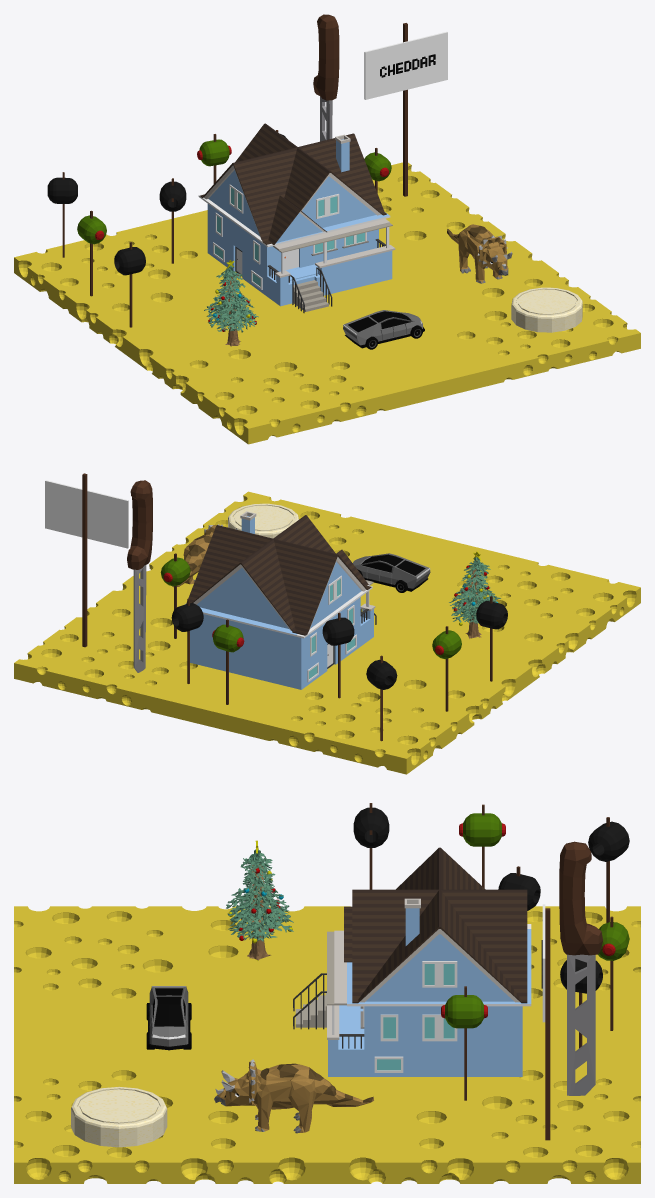
3 views of the same model, one above another, from view 1: azimuth 30°, elevation 25°; view 2: azimuth 150°, elevation 25°; view 3: azimuth 270°, elevation 25° (orthographic). The views are drawn at different scales.
Parts seen in each view (by area): view 1: Cube.022, Cube.1594, Cube.023, Cylinder.016, Cube.024, ANIMAL_Triceratops, OBJRANDOM_CHRISTMAS_TREE, VEHICLES_CYBERTRUCK, Sphere.017, Sphere.016, Sphere.020, Sphere.018 (+2 smaller); view 2: Cube.022, Cube.1594, Cube.023, Cube.024, VEHICLES_CYBERTRUCK, OBJRANDOM_CHRISTMAS_TREE, Cylinder.016, Sphere.017, Sphere.020, Sphere.021, Sphere.016, Sphere.018 (+3 smaller); view 3: Cube.022, Cube.1594, Cube.024, ANIMAL_Triceratops, Cylinder.016, OBJRANDOM_CHRISTMAS_TREE, VEHICLES_CYBERTRUCK, Cube.023, Sphere.019, Sphere.016, Sphere.018, Sphere.017 (+3 smaller).
Boxes of the visible parts, box(x1,y1,x2,y2) form: Cube.022: box(14, 162, 640, 444); Cube.1594: box(198, 123, 395, 313); Cube.023: box(364, 23, 447, 196); Cylinder.016: box(511, 287, 582, 332); Cube.024: box(313, 14, 339, 141); ANIMAL_Triceratops: box(447, 224, 512, 283); OBJRANDOM_CHRISTMAS_TREE: box(204, 260, 258, 346); VEHICLES_CYBERTRUCK: box(343, 310, 424, 349); Sphere.017: box(114, 242, 145, 327); Sphere.016: box(47, 172, 77, 257); Sphere.020: box(159, 178, 186, 263); Sphere.018: box(77, 210, 106, 296); Cube.022: box(14, 491, 640, 774); Cube.1594: box(185, 511, 376, 689); Cube.023: box(45, 473, 128, 647); Cube.024: box(127, 480, 152, 672); VEHICLES_CYBERTRUCK: box(353, 553, 430, 592); OBJRANDOM_CHRISTMAS_TREE: box(449, 551, 500, 638); Cylinder.016: box(228, 503, 298, 538); Sphere.017: box(476, 596, 507, 681); Sphere.020: box(322, 612, 354, 698); Sphere.021: box(171, 598, 203, 683); Sphere.016: box(366, 655, 397, 741); Sphere.018: box(432, 626, 461, 711); Cube.022: box(14, 906, 640, 1183); Cube.1594: box(293, 847, 531, 1076); Cube.024: box(559, 841, 602, 1095); ANIMAL_Triceratops: box(214, 1059, 373, 1133); Cylinder.016: box(71, 1086, 167, 1147); OBJRANDOM_CHRISTMAS_TREE: box(226, 840, 293, 961); VEHICLES_CYBERTRUCK: box(146, 986, 191, 1050); Cube.023: box(541, 904, 550, 1140); Sphere.019: box(441, 986, 487, 1100); Sphere.016: box(588, 817, 629, 922); Sphere.018: box(459, 804, 505, 887); Sphere.017: box(353, 803, 389, 889).
Size of the model in its own units: 3917 by 2030 by 4000.
Materials: 38 (4 with a texture image).
